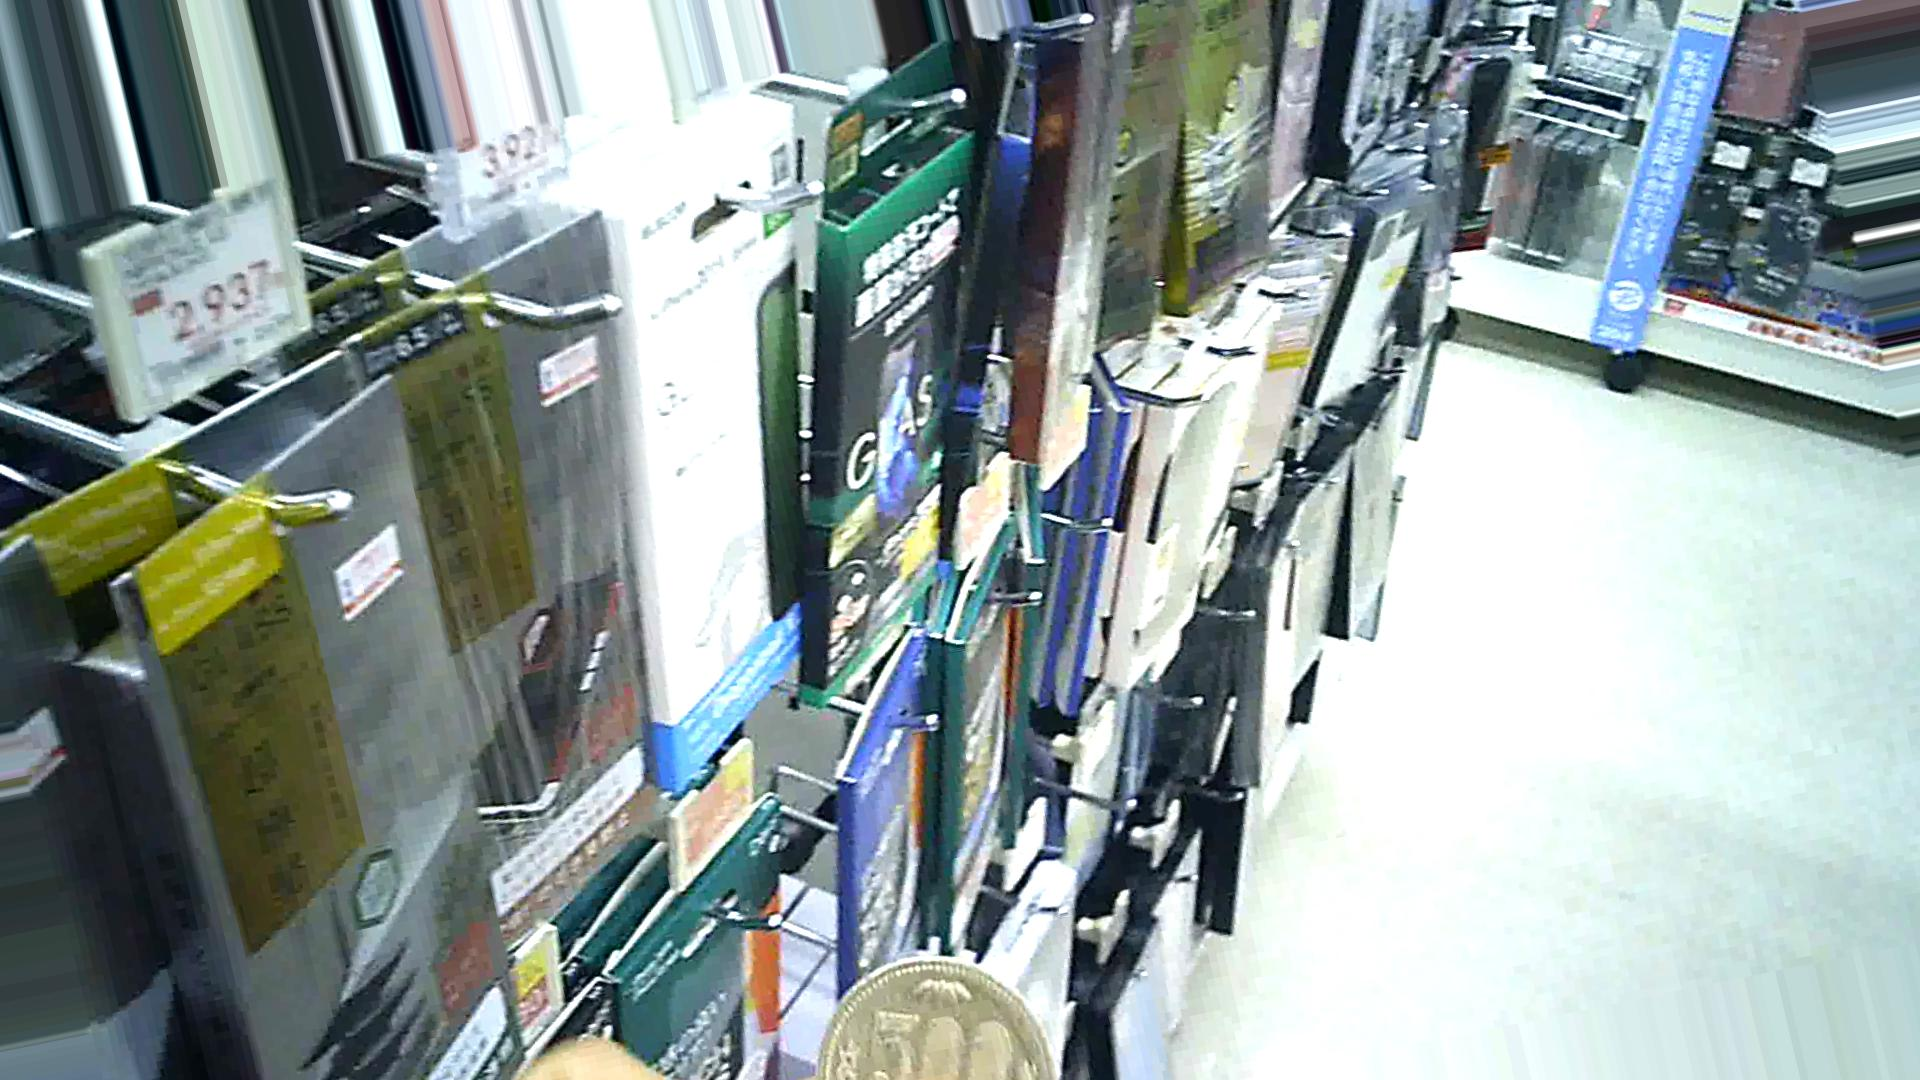500 Yen: (796, 942, 1054, 1079)
